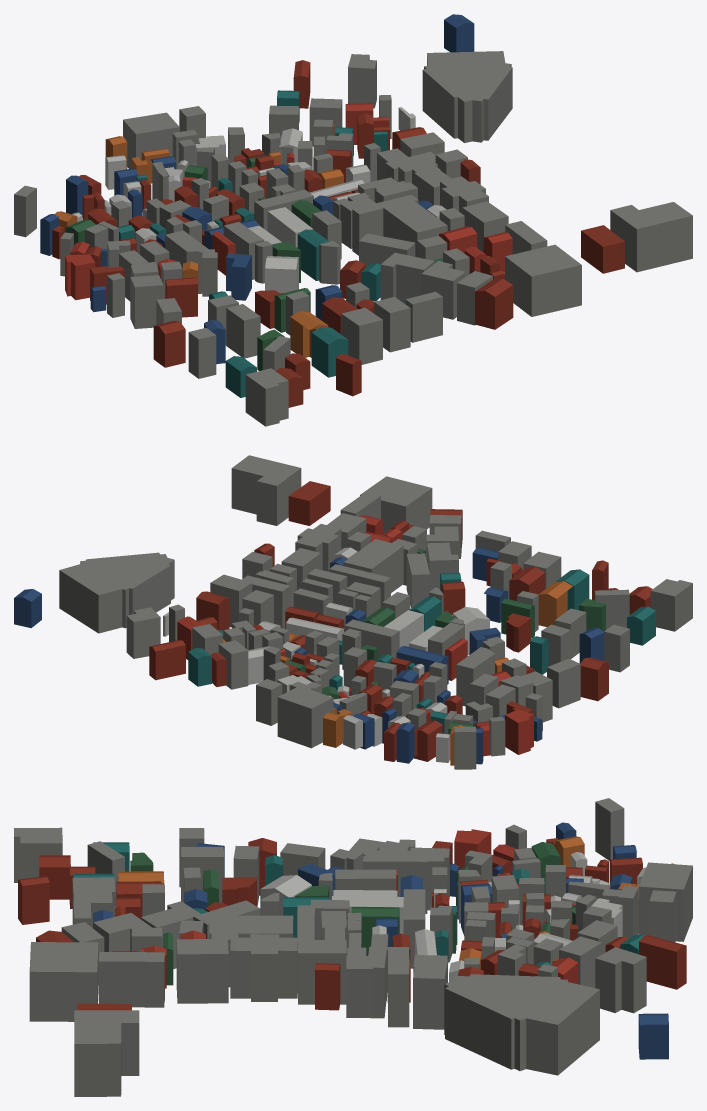
Rendered from near-17-109441-59476.6c5589b3.glb.
3 renders of one model, top to bottom at view 1: azimuth 30°, elevation 25°; view 2: azimuth 150°, elevation 25°; view 3: azimuth 270°, elevation 25°, orthographic. The views are drawn at different scales.
Size of the model in its own units: 301 by 70.55 by 303.
